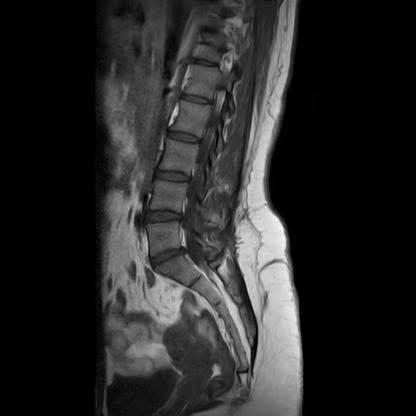Disc Bulgerotation: (144, 207, 183, 228)
Disc Protrusionrotation: (149, 248, 188, 266)
